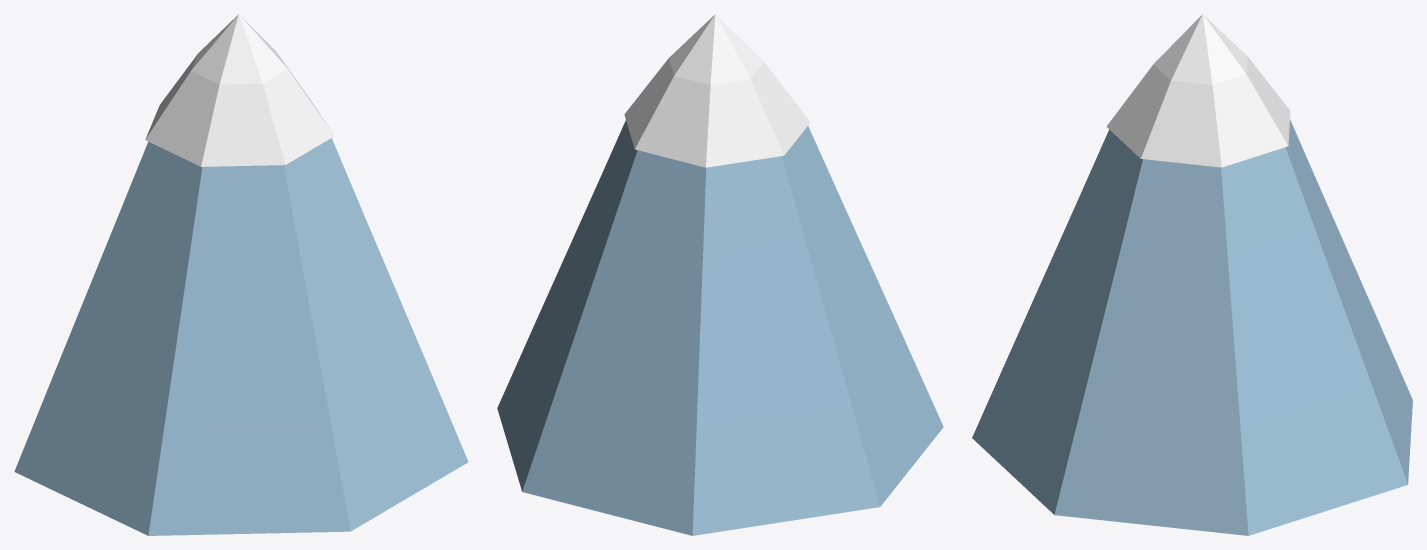
File: mountain-cone.glb
The picture shows the model from 3 angles, left to right: view 1: azimuth 30°, elevation 25°; view 2: azimuth 150°, elevation 25°; view 3: azimuth 270°, elevation 25°; orthographic projection.
Parts seen in each view (by area): view 1: ice-mountain-cone; view 2: ice-mountain-cone; view 3: ice-mountain-cone.
Boxes of the visible parts, x1,y1,x2,y2 form: ice-mountain-cone: [14, 14, 468, 535]; ice-mountain-cone: [497, 14, 943, 535]; ice-mountain-cone: [972, 14, 1412, 535].
Size of the model in its own units: 2.01 by 2.1 by 1.97.
